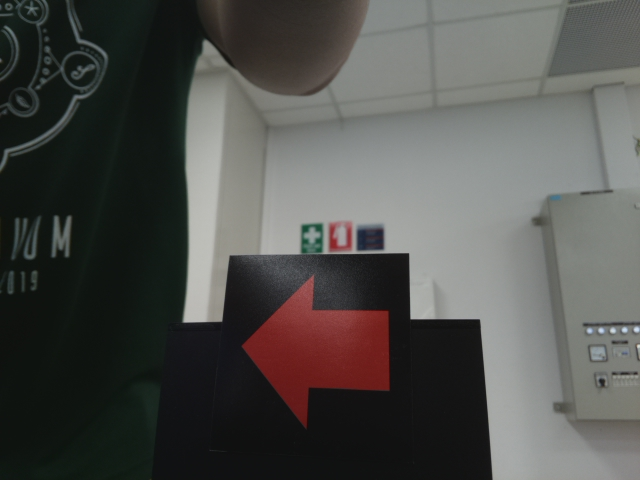left: (240, 274, 398, 436)
